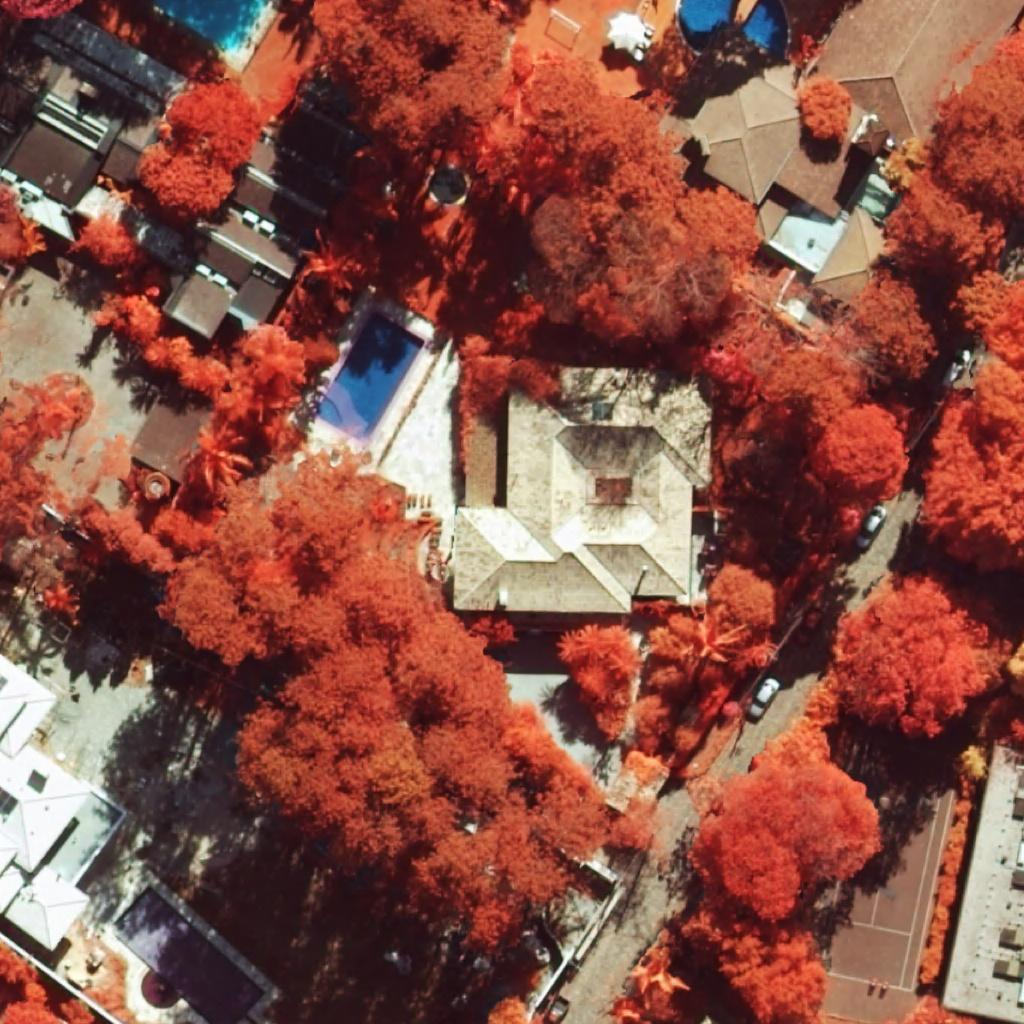pool: (315, 312, 425, 445), (152, 0, 270, 54), (679, 0, 740, 54), (740, 0, 787, 58)
